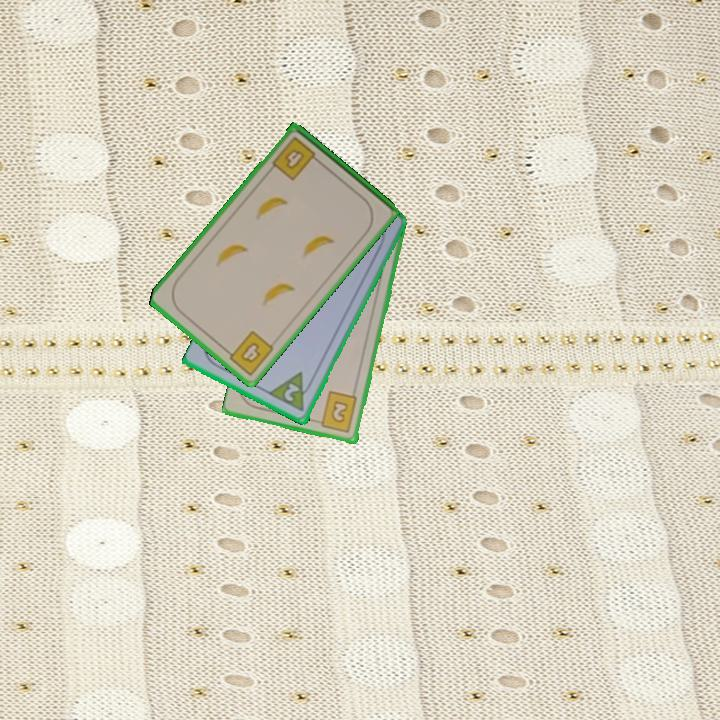2b: (312, 388, 360, 436)
2p: (281, 380, 302, 405)
4b: (221, 327, 277, 379), (268, 133, 323, 184)
